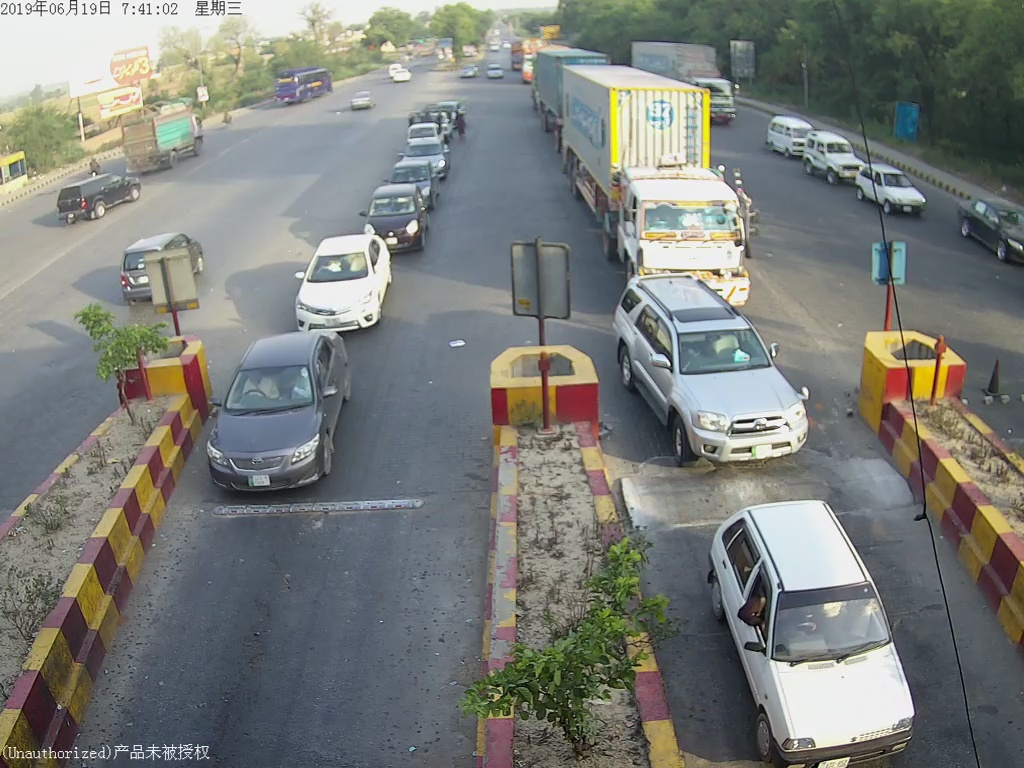Cat-1: (711, 508, 928, 764), (624, 266, 821, 461), (214, 336, 360, 485), (285, 237, 389, 329), (365, 192, 421, 242)
Cat-5: (565, 70, 756, 263)
